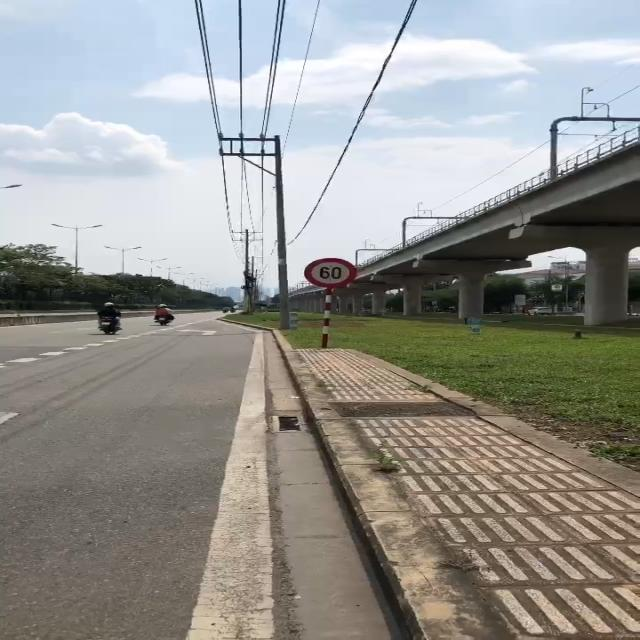Bien bao toc do toi da cho phep: (305, 254, 359, 290)
